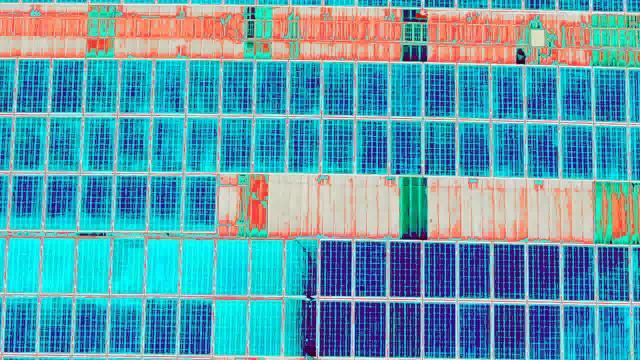clean: (320, 239, 352, 298), (353, 239, 385, 298), (388, 239, 420, 298), (423, 240, 455, 299), (457, 241, 489, 300), (492, 242, 524, 301), (527, 245, 559, 304), (319, 301, 351, 360), (353, 299, 385, 358), (389, 301, 421, 360), (423, 301, 455, 360), (457, 300, 489, 359), (495, 301, 527, 360), (529, 301, 561, 360)
dirty: (7, 238, 39, 292), (42, 238, 74, 292), (76, 238, 108, 292), (112, 239, 144, 293), (147, 240, 179, 294), (182, 241, 214, 295), (216, 240, 248, 294), (251, 240, 283, 294), (285, 243, 317, 297), (215, 299, 247, 353), (250, 299, 282, 353), (283, 299, 315, 353)
semi: (116, 115, 150, 170), (17, 59, 50, 114), (50, 58, 83, 113), (84, 58, 117, 113), (118, 59, 151, 114), (152, 58, 185, 113), (186, 59, 219, 114), (221, 60, 254, 115), (253, 60, 286, 115), (286, 60, 319, 115), (321, 61, 354, 116), (354, 61, 387, 116), (391, 62, 424, 117), (423, 62, 456, 117), (456, 63, 489, 118), (489, 64, 522, 119), (524, 65, 557, 120), (558, 65, 591, 120), (592, 68, 625, 123), (12, 116, 45, 171), (48, 114, 81, 169), (82, 116, 115, 171), (153, 116, 186, 171), (188, 116, 221, 171), (219, 117, 252, 172), (253, 116, 286, 171), (288, 117, 321, 172), (321, 117, 354, 172), (354, 117, 387, 172), (390, 117, 423, 172), (423, 120, 456, 175), (458, 121, 491, 176), (492, 121, 525, 176), (526, 123, 559, 178), (558, 122, 591, 177), (595, 124, 628, 179), (6, 295, 39, 350), (39, 296, 72, 351), (74, 297, 107, 352), (109, 297, 142, 352), (143, 297, 176, 352), (178, 300, 211, 355), (562, 305, 595, 360), (598, 303, 631, 358), (596, 247, 629, 302), (563, 245, 596, 300)
